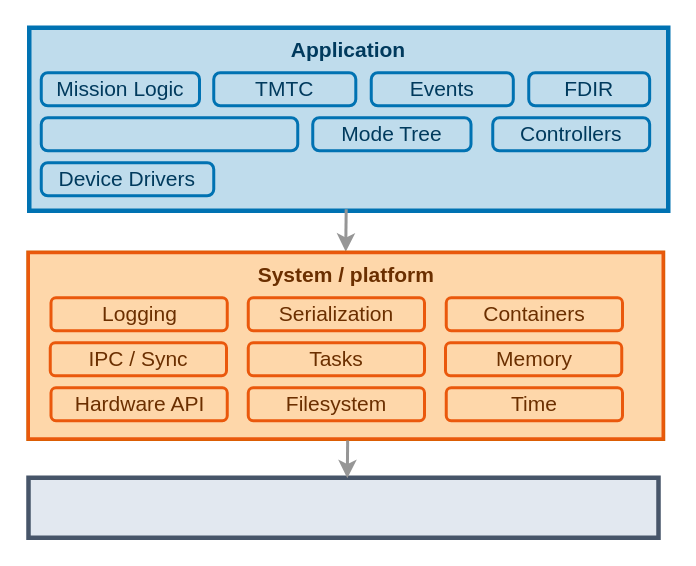
Some shapes in this 696 by 566 pixel diagram are drawn without their labels. The shapes that lost their labels are listed below. From the top down, each one's centre as x and y in pixels, then its label:
point 168,134: Command Scheduling
point 343,507: Hardware
